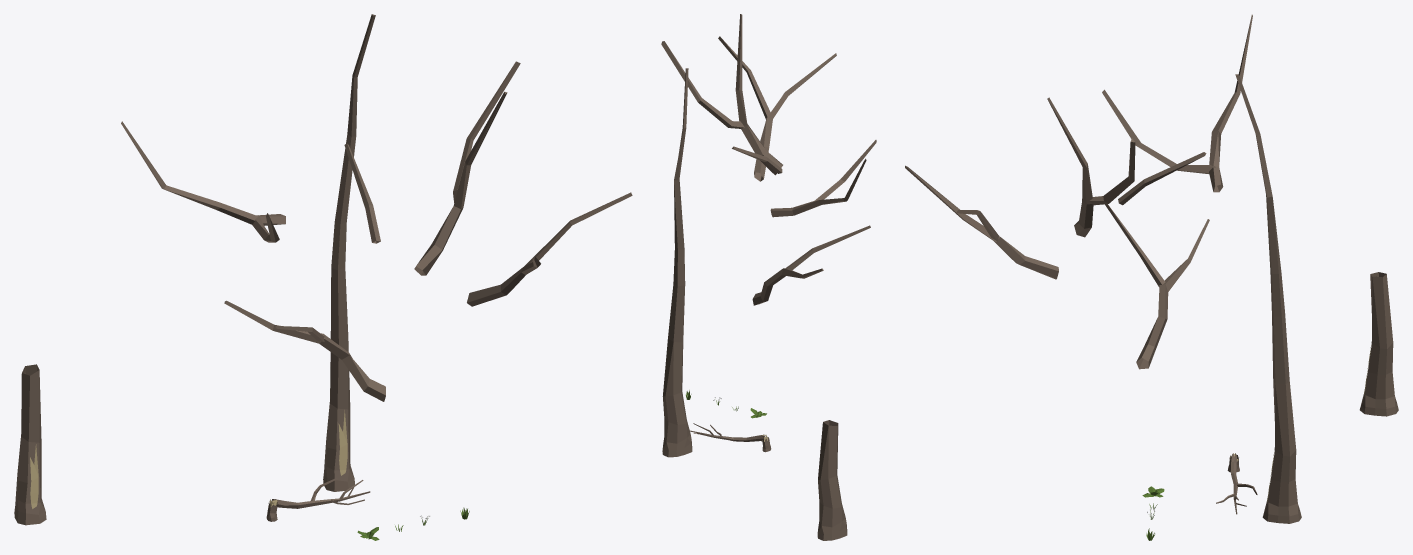
The model's file is Edited.fbx.
The picture shows the model from 3 angles, left to right: view 1: azimuth 30°, elevation 25°; view 2: azimuth 150°, elevation 25°; view 3: azimuth 270°, elevation 25°; orthographic projection. The views are drawn at different scales.
Parts seen in each view (by area): view 1: Tree_1_2_LOD0, Tree_1_2_LOD0.003, Tree_1_2_LOD0.001, Tree_1_2_LOD0.002, Tree_1_2_LOD0.007, Tree_1_2_LOD0.004, Tree_1_2_LOD0.006, FallenTree_1_2_2; view 2: Tree_1_2_LOD0, Tree_1_2_LOD0.003, Tree_1_2_LOD0.001, Tree_1_2_LOD0.004, Tree_1_2_LOD0.007, Tree_1_2_LOD0.002, FallenTree_1_2_2, Tree_1_2_LOD0.006; view 3: Tree_1_2_LOD0, Tree_1_2_LOD0.003, Tree_1_2_LOD0.007, Tree_1_2_LOD0.002, Tree_1_2_LOD0.001, Tree_1_2_LOD0.004, Tree_1_2_LOD0.006.
Part boxes in pixels (box(x1,y1,x2,y2)): Tree_1_2_LOD0: box(323, 14, 375, 491); Tree_1_2_LOD0.003: box(14, 364, 46, 525); Tree_1_2_LOD0.001: box(414, 61, 520, 275); Tree_1_2_LOD0.002: box(224, 300, 385, 401); Tree_1_2_LOD0.007: box(121, 121, 285, 242); Tree_1_2_LOD0.004: box(467, 192, 632, 306); Tree_1_2_LOD0.006: box(344, 143, 380, 243); FallenTree_1_2_2: box(271, 478, 370, 508); Tree_1_2_LOD0: box(662, 68, 692, 457); Tree_1_2_LOD0.003: box(817, 420, 847, 540); Tree_1_2_LOD0.001: box(661, 14, 782, 175); Tree_1_2_LOD0.004: box(718, 36, 836, 181); Tree_1_2_LOD0.007: box(770, 140, 876, 217); Tree_1_2_LOD0.002: box(752, 225, 870, 305); FallenTree_1_2_2: box(690, 423, 765, 441); Tree_1_2_LOD0.006: box(732, 146, 782, 173); Tree_1_2_LOD0: box(1235, 74, 1301, 523); Tree_1_2_LOD0.003: box(1359, 272, 1398, 416); Tree_1_2_LOD0.007: box(1102, 14, 1252, 192); Tree_1_2_LOD0.002: box(1105, 204, 1209, 369); Tree_1_2_LOD0.001: box(1047, 97, 1135, 237); Tree_1_2_LOD0.004: box(905, 165, 1058, 279); Tree_1_2_LOD0.006: box(1118, 152, 1206, 205).
Size of what is drawn, in the model's own units: 3200 by 3840 by 3769.
